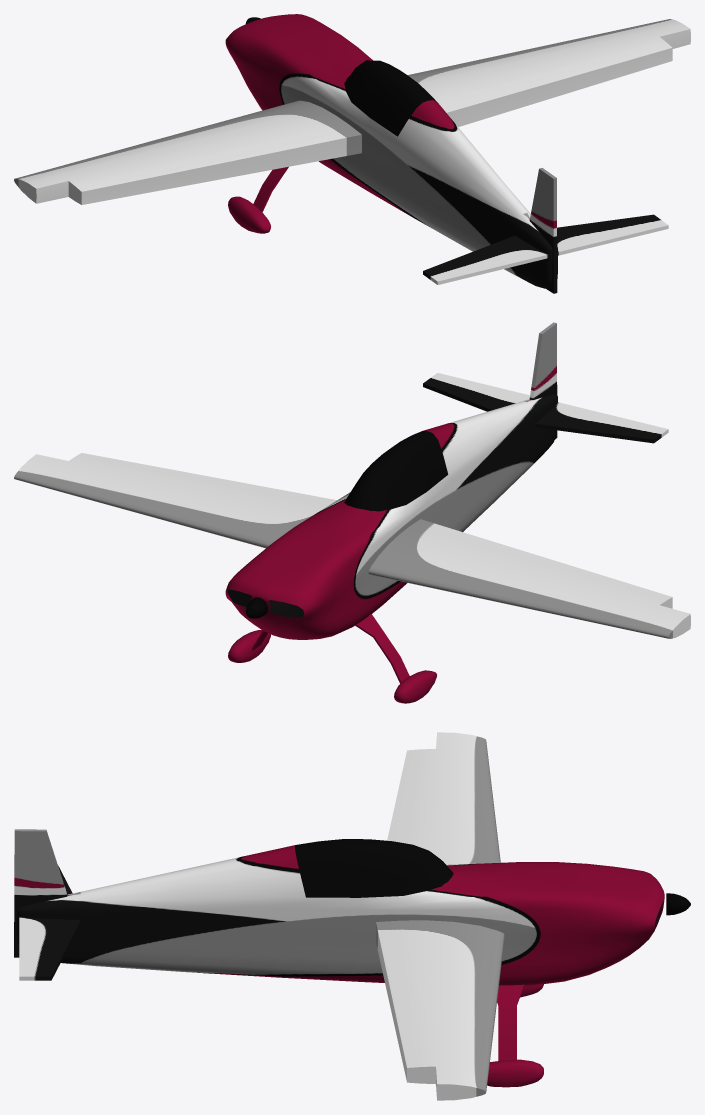
Rendered from SkaterBody.glb.
3 views of the same model, one above another, from view 1: azimuth 30°, elevation 25°; view 2: azimuth 150°, elevation 25°; view 3: azimuth 270°, elevation 25° (orthographic). The views are drawn at different scales.
Parts seen in each view (by area): view 1: Wing, Fuselage, HorizontalStabiliser, Canopy, VerticalStabiliser, WheelPants, LandingLegs; view 2: Wing, Fuselage, Canopy, HorizontalStabiliser, WheelPants, VerticalStabiliser, LandingLegs, Plane; view 3: Fuselage, Wing, Canopy, VerticalStabiliser, HorizontalStabiliser, WheelPants, LandingLegs.
Part boxes in pixels (box(x1,y1,x2,y2)): Wing: box(14, 19, 690, 204); Fuselage: box(225, 14, 557, 288); HorizontalStabiliser: box(423, 214, 668, 284); Canopy: box(344, 60, 437, 136); VerticalStabiliser: box(529, 168, 557, 293); WheelPants: box(228, 196, 270, 233); LandingLegs: box(253, 166, 288, 212); Wing: box(14, 453, 690, 638); Fuselage: box(225, 394, 557, 639); Canopy: box(344, 431, 448, 511); HorizontalStabiliser: box(423, 373, 668, 443); WheelPants: box(228, 630, 436, 703); VerticalStabiliser: box(529, 322, 557, 439); LandingLegs: box(252, 614, 409, 683); Plane: box(227, 589, 303, 618); Fuselage: box(17, 845, 664, 985); Wing: box(376, 732, 504, 1100); Canopy: box(295, 839, 453, 897); VerticalStabiliser: box(14, 829, 67, 957); HorizontalStabiliser: box(19, 865, 80, 980); WheelPants: box(487, 984, 543, 1087); LandingLegs: box(497, 984, 524, 1060).
Bounding box in the file's own units: 1.9 × 0.5241 × 1.54.
4 materials, 1 textured.
